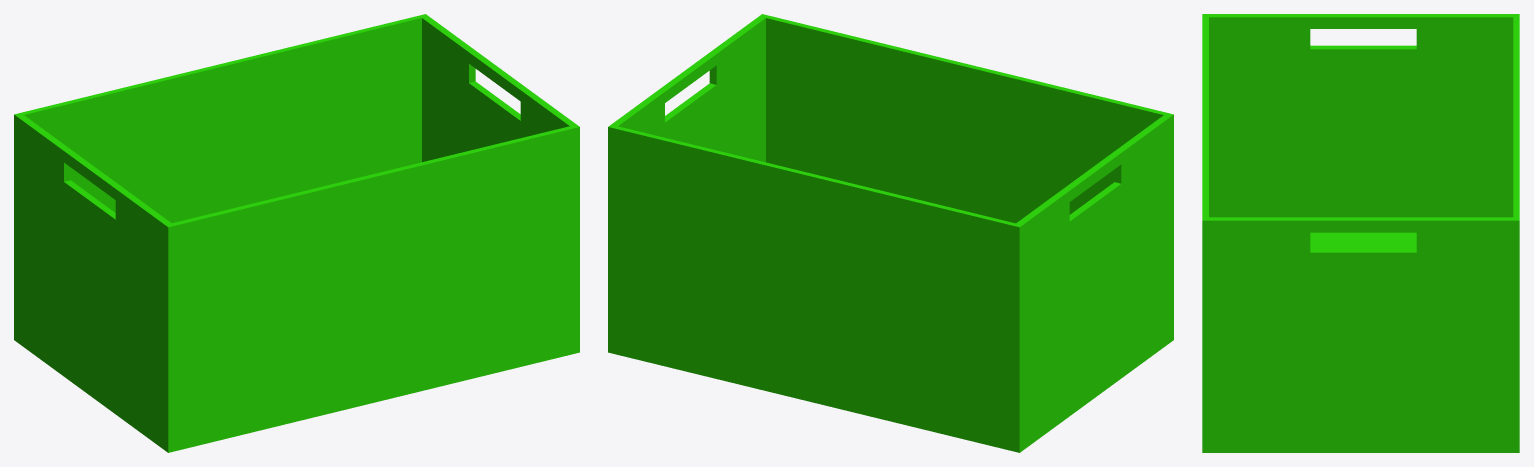
Rendered from Woodbox_01_Lod0.fbx.
The picture shows the model from 3 angles, left to right: view 1: azimuth 30°, elevation 25°; view 2: azimuth 150°, elevation 25°; view 3: azimuth 270°, elevation 25°; orthographic projection. The views are drawn at different scales.
Visible parts, largest first — view 1: Woodbox_01_Lod0; view 2: Woodbox_01_Lod0; view 3: Woodbox_01_Lod0.
Part boxes in pixels (x1,y1,x2,y2): Woodbox_01_Lod0: (14,14,579,452); Woodbox_01_Lod0: (608,14,1173,452); Woodbox_01_Lod0: (1202,14,1519,452).
Bounding box in the file's own units: 53.53 × 28.03 × 34.74.
